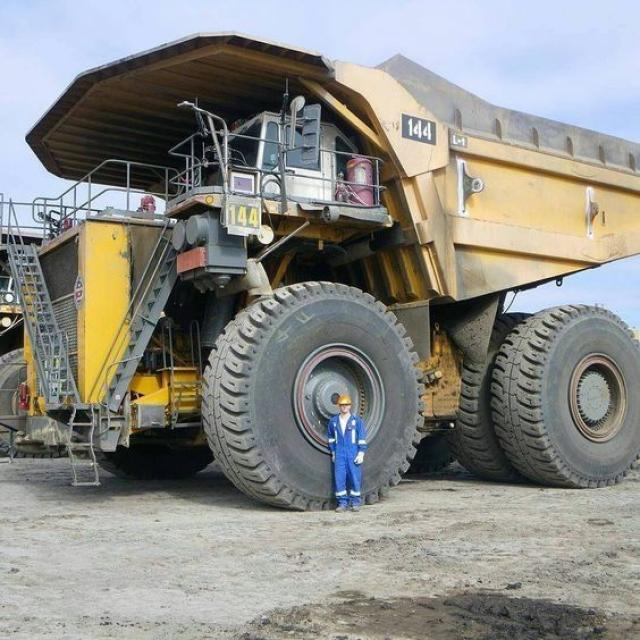dump_truck: (1, 27, 637, 515)
